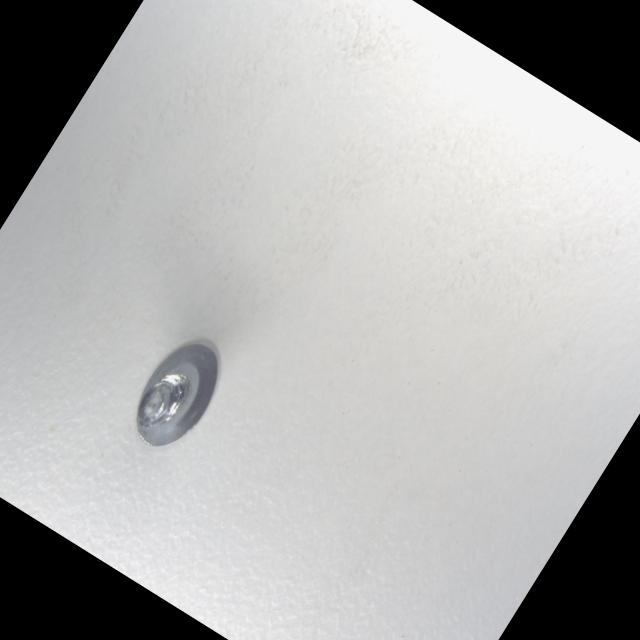Screw: (135, 346, 215, 446)
